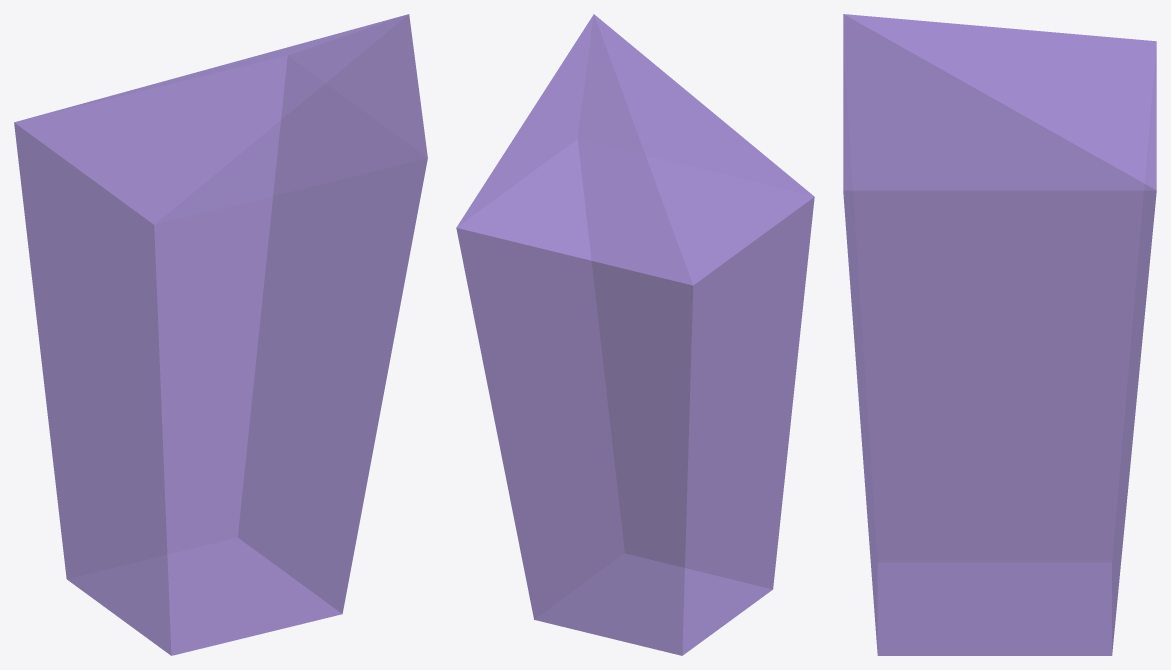
The model's file is Crystal_New_04.fbx.
3 views of the same model, side by side, from view 1: azimuth 30°, elevation 25°; view 2: azimuth 150°, elevation 25°; view 3: azimuth 270°, elevation 25° (orthographic). The views are drawn at different scales.
Parts seen in each view (by area): view 1: Model; view 2: Model; view 3: Model.
Part boxes in pixels (box(x1,y1,x2,y2)): Model: box(14, 14, 427, 655); Model: box(456, 14, 814, 655); Model: box(843, 14, 1156, 655).
Size of the model in its own units: 177 by 370 by 157.
